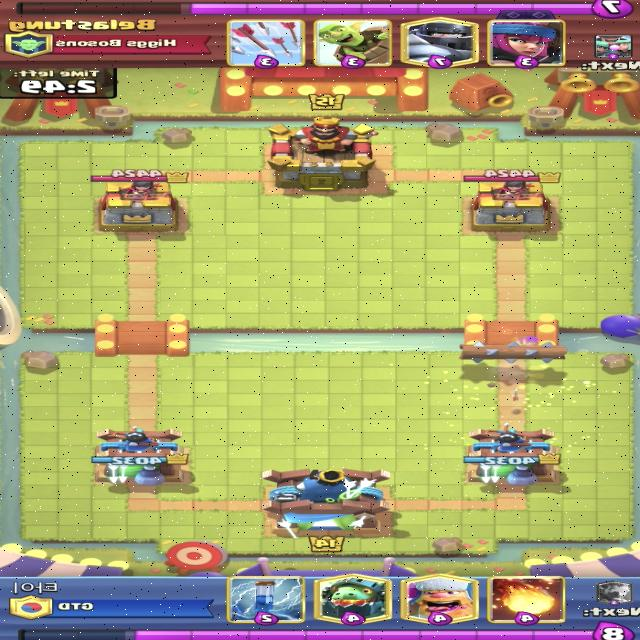Player-Log: (457, 340, 568, 363)
